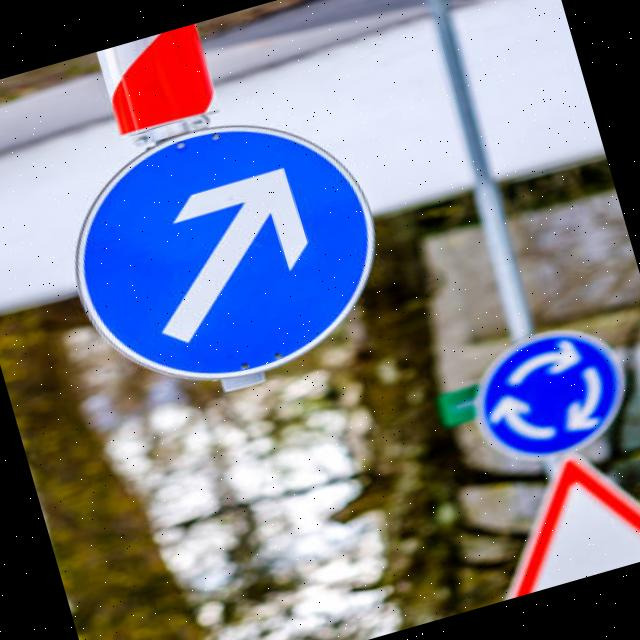round_about: (453, 309, 640, 483)
